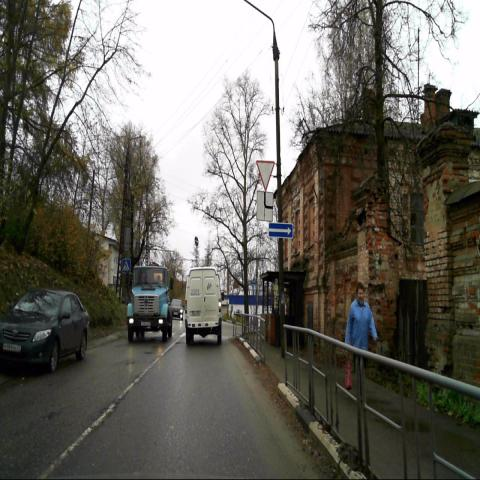5_7_1: (269, 222, 294, 238)
